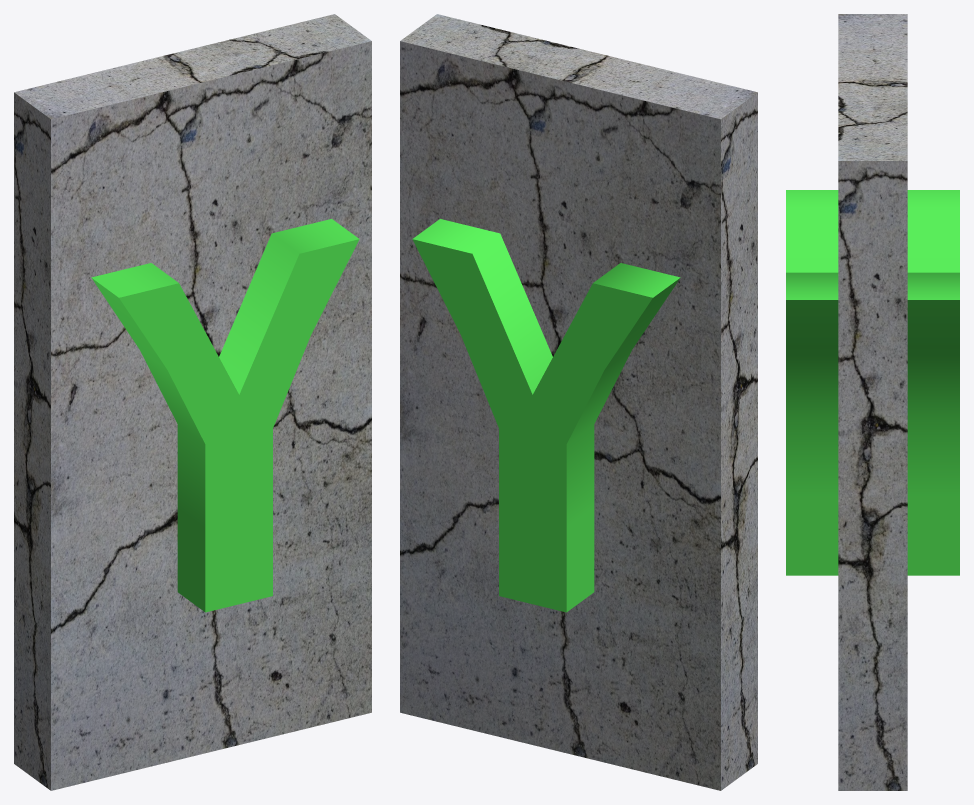
The model's file is stoneHibi_Y.fbx.
The picture shows the model from 3 angles, left to right: view 1: azimuth 30°, elevation 25°; view 2: azimuth 150°, elevation 25°; view 3: azimuth 270°, elevation 25°; orthographic projection. The views are drawn at different scales.
Visible parts, largest first — view 1: Box001, Box002; view 2: Box001, Box002; view 3: Box001, Box002.
Boxes of the visible parts, <box> form: Box001: <box>14,14,371,790</box>; Box002: <box>91,219,359,612</box>; Box001: <box>400,14,757,790</box>; Box002: <box>412,219,680,612</box>; Box001: <box>838,14,907,790</box>; Box002: <box>786,190,959,575</box>.
Bounding box in the file's own units: 78.74 × 39.37 × 157.
Materials: 2 (2 with a texture image).
